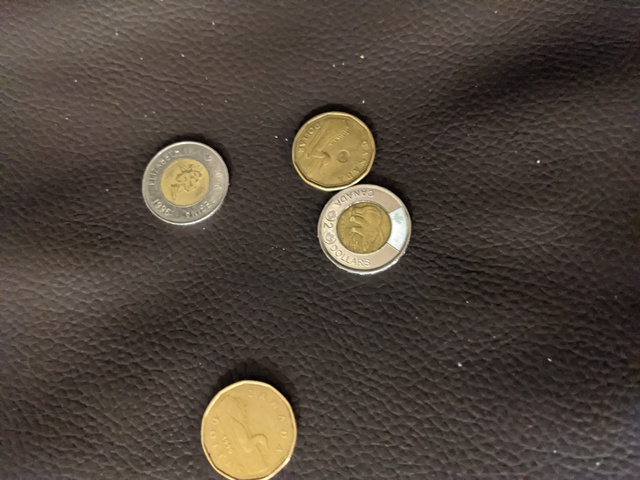loonie: (190, 373, 305, 475), (293, 108, 382, 190)
twonie: (311, 178, 417, 271), (137, 133, 232, 224)
